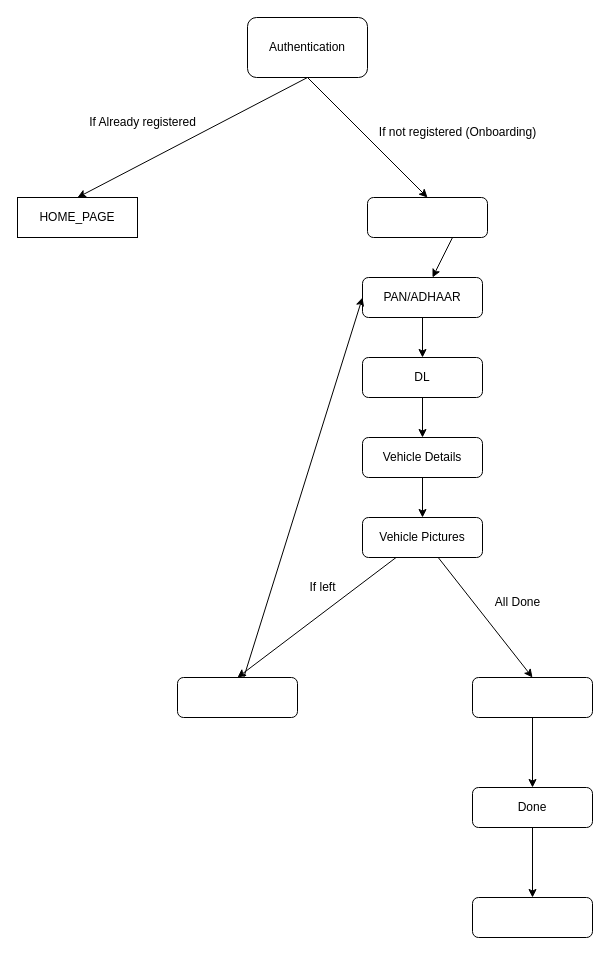
The diagram is 610 pixels wide and 955 high, and some of its shapes have lost their labels. The centre of each missing label's shape, as x and y in pixels:
Basic Details: [427,217]
HomePage: [532,917]
Left: [237,697]
Waiting: [532,697]
